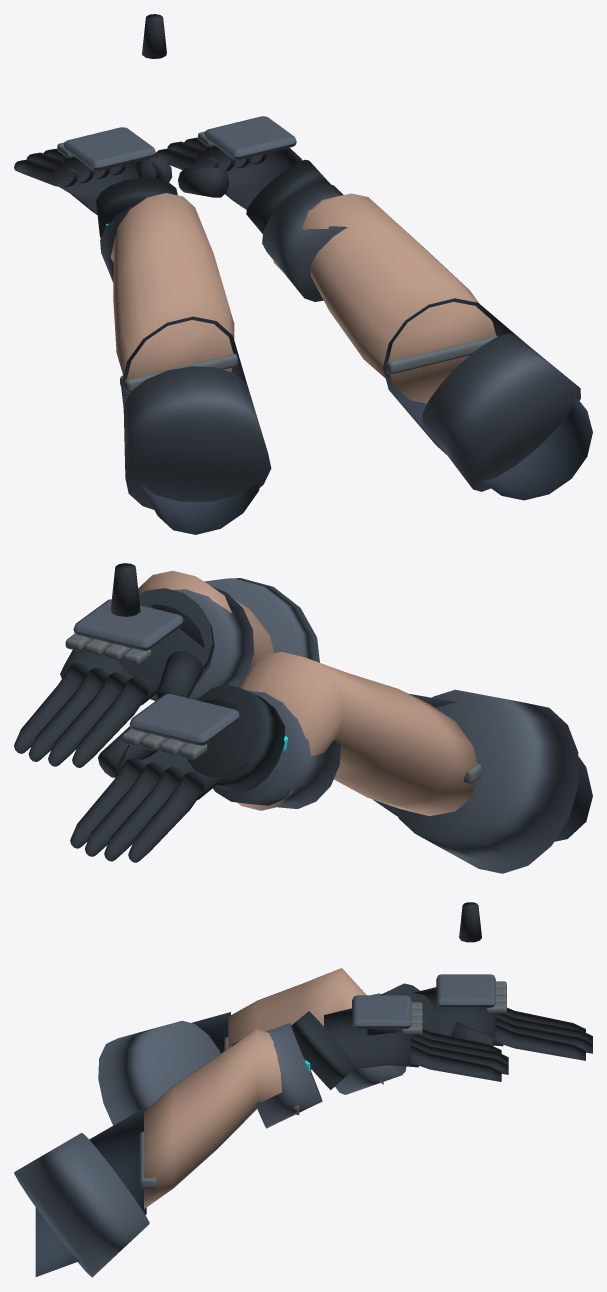
Rendered from tactical_arms_pistol.glb.
3 renders of one model, top to bottom at view 1: azimuth 30°, elevation 25°; view 2: azimuth 150°, elevation 25°; view 3: azimuth 270°, elevation 25°, orthographic. The views are drawn at different scales.
Parts seen in each view (by area): view 1: Exposed anatomical forearm, Exposed anatomical forearm.001, Elbow fabric reinforcement.001, Elbow fabric reinforcement, Upper sleeve, Raised armor cuff, Upper sleeve.001, Contoured glove and palm, Back-of-hand armor, Back-of-hand armor.001, Contoured glove and palm.001, Wrist gasket (+7 smaller); view 2: Exposed anatomical forearm.001, Elbow fabric reinforcement.001, Wrist gasket.001, Raised armor cuff.001, Raised armor cuff, Elbow fabric reinforcement, Back-of-hand armor.001, Wrist gasket, Back-of-hand armor, Curved finger 1, Curved finger 1.001, Exposed anatomical forearm (+12 smaller); view 3: Exposed anatomical forearm, Elbow fabric reinforcement, Elbow fabric reinforcement.001, Exposed anatomical forearm.001, Upper sleeve, Raised armor cuff, Contoured glove and palm, Wrist gasket, Back-of-hand armor, Back-of-hand armor.001, Contoured glove and palm.001, Curved finger 4 (+12 smaller).
Part boxes in pixels (x1,y1,x2,y2): Exposed anatomical forearm: (273, 193, 496, 403); Exposed anatomical forearm.001: (110, 193, 234, 394); Elbow fabric reinforcement.001: (123, 366, 271, 509); Elbow fabric reinforcement: (422, 333, 580, 491); Upper sleeve: (383, 298, 592, 500); Raised armor cuff: (262, 182, 347, 301); Upper sleeve.001: (121, 316, 262, 534); Contoured glove and palm: (193, 146, 302, 209); Back-of-hand armor: (204, 116, 296, 159); Back-of-hand armor.001: (64, 127, 155, 170); Contoured glove and palm.001: (52, 157, 166, 214); Wrist gasket: (246, 159, 330, 233); Exposed anatomical forearm.001: (237, 652, 477, 816); Elbow fabric reinforcement.001: (394, 689, 578, 873); Wrist gasket.001: (187, 684, 284, 793); Raised armor cuff.001: (213, 690, 340, 808); Raised armor cuff: (150, 586, 254, 700); Elbow fabric reinforcement: (204, 578, 319, 662); Back-of-hand armor.001: (129, 694, 239, 745); Wrist gasket: (118, 588, 214, 682); Back-of-hand armor: (73, 599, 183, 650); Curved finger 1: (72, 677, 149, 767); Curved finger 1.001: (128, 772, 205, 862); Exposed anatomical forearm: (138, 570, 273, 686); Exposed anatomical forearm: (144, 1028, 299, 1208); Elbow fabric reinforcement: (14, 1133, 149, 1277); Elbow fabric reinforcement.001: (98, 1020, 220, 1125); Exposed anatomical forearm.001: (228, 968, 383, 1084); Upper sleeve: (35, 1106, 146, 1276); Raised armor cuff: (231, 1023, 322, 1128); Contoured glove and palm: (324, 1008, 418, 1069); Wrist gasket: (291, 1011, 356, 1089); Back-of-hand armor: (352, 995, 411, 1028); Back-of-hand armor.001: (436, 974, 495, 1007); Contoured glove and palm.001: (413, 987, 503, 1046); Curved finger 4: (411, 1045, 501, 1081).
Bounding box in the file's own units: 0.47 × 0.3845 × 0.6525.
